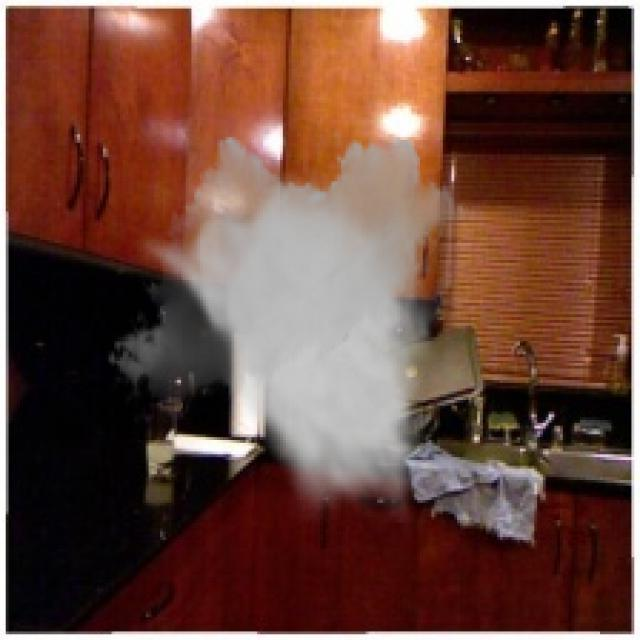Smoke: (106, 126, 466, 523)
